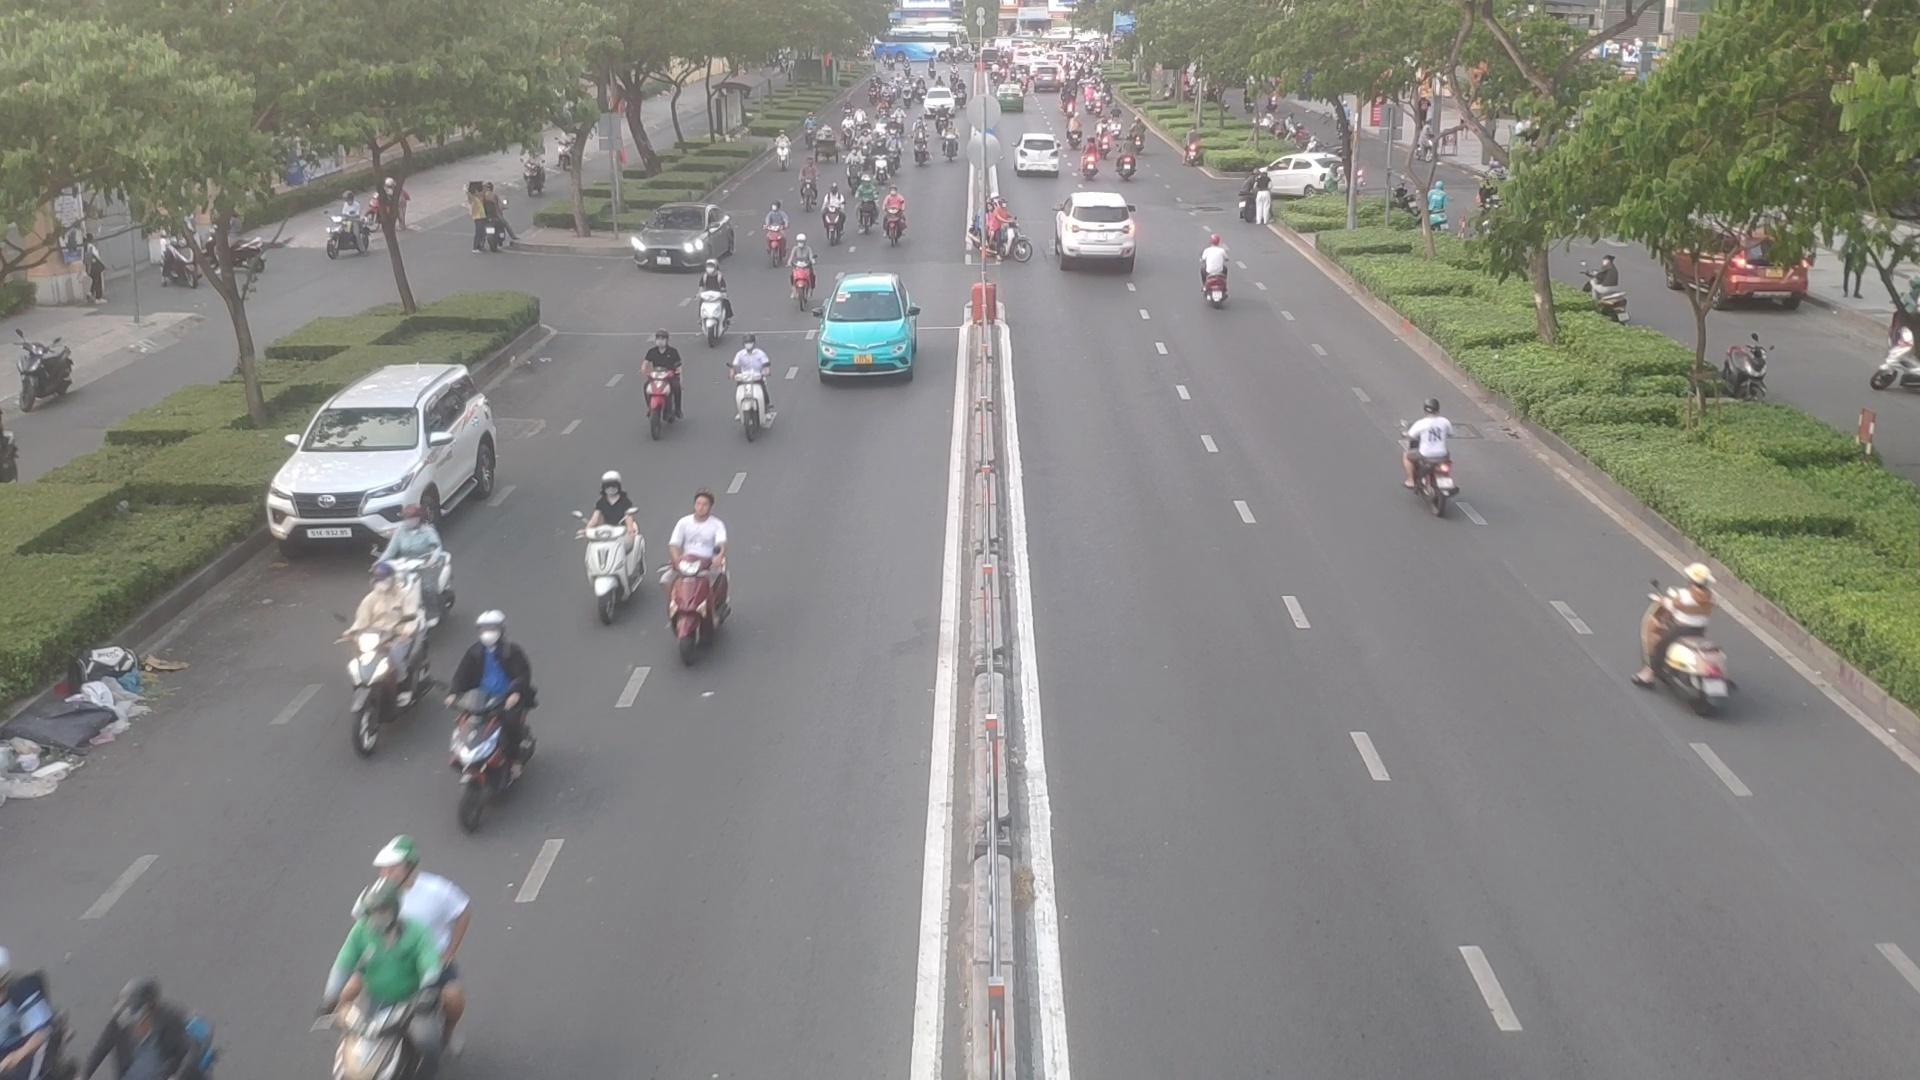car: (262, 363, 500, 556), (814, 274, 919, 381), (1054, 189, 1142, 273), (626, 204, 737, 272), (1013, 135, 1062, 175)
motorbike: (310, 843, 475, 1080), (655, 484, 750, 670), (1633, 560, 1729, 715), (443, 683, 539, 827), (349, 560, 423, 746), (579, 450, 649, 604), (396, 487, 464, 628), (1396, 401, 1453, 517), (686, 256, 735, 349), (729, 336, 770, 444), (640, 322, 678, 429), (985, 199, 1030, 266), (782, 222, 814, 307), (1197, 235, 1233, 309), (764, 204, 791, 269), (884, 189, 907, 249), (823, 179, 845, 243), (794, 158, 818, 214), (1116, 131, 1139, 185), (1077, 135, 1102, 181), (855, 175, 873, 232), (843, 145, 864, 186), (771, 128, 790, 174), (872, 135, 887, 185), (885, 131, 902, 175)
